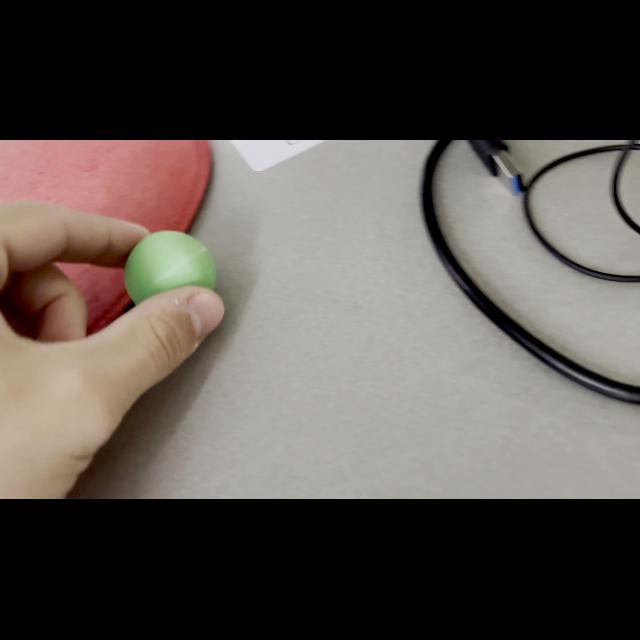objects: (120, 225, 220, 305)
